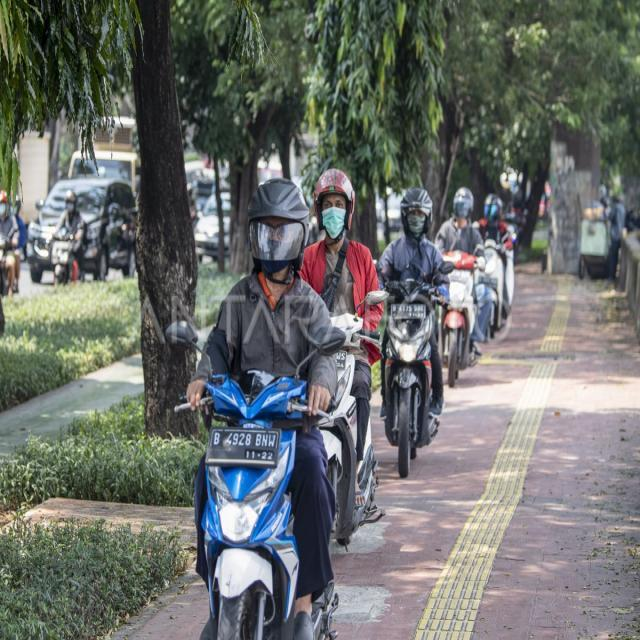Helmet: (248, 178, 308, 269), (313, 168, 355, 229), (400, 187, 432, 234), (453, 187, 473, 218), (484, 194, 502, 221), (64, 189, 76, 210), (0, 190, 8, 217), (13, 196, 21, 215)
Number Plate: (206, 428, 280, 467), (391, 304, 425, 318), (335, 351, 346, 369)
Rearview Mirror: (309, 327, 345, 355), (165, 320, 197, 346), (364, 290, 389, 306), (438, 261, 454, 274), (35, 199, 44, 211)
